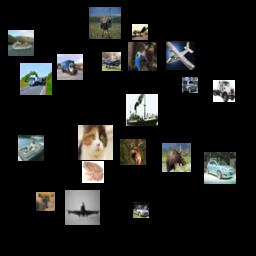airplane: (65, 190, 100, 225), (166, 41, 195, 70), (102, 52, 121, 71), (132, 24, 148, 40)
automobile: (204, 152, 236, 184), (133, 202, 149, 218), (182, 77, 198, 93)
bird: (89, 7, 121, 39), (128, 42, 157, 71)
cat: (78, 125, 113, 160)
deer: (162, 143, 191, 172), (120, 139, 146, 165), (36, 192, 55, 211)
frog: (82, 161, 104, 183)
ship: (126, 94, 158, 126), (18, 135, 44, 161), (8, 30, 34, 56)
truck: (20, 63, 52, 95), (57, 54, 83, 80), (213, 80, 235, 102)
